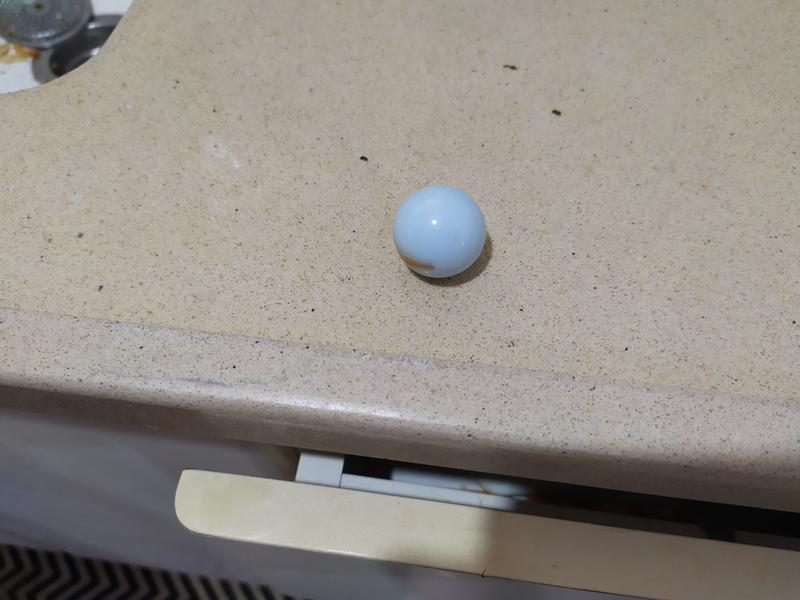Warning: (390, 180, 491, 282)
